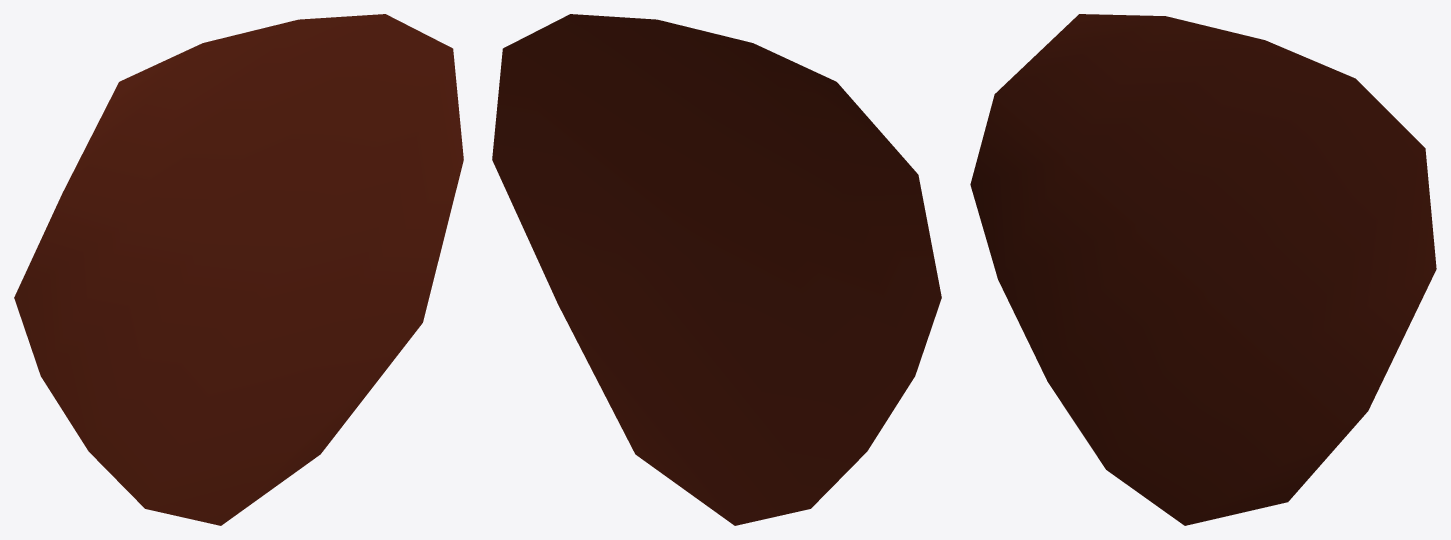
The model's file is finch_feather_flight_tertiary_030.obj.
3 renders of one model, left to right at view 1: azimuth 30°, elevation 25°; view 2: azimuth 150°, elevation 25°; view 3: azimuth 330°, elevation 25°, orthographic. The views are drawn at different scales.
Visible parts, largest first — view 1: feather_flight_tertiary_030; view 2: feather_flight_tertiary_030; view 3: feather_flight_tertiary_030.
Part boxes in pixels (x1,y1,x2,y2): feather_flight_tertiary_030: [14, 14, 463, 525]; feather_flight_tertiary_030: [492, 14, 941, 525]; feather_flight_tertiary_030: [970, 14, 1436, 525].
Size of the model in its own units: 0.00316 by 0.00327 by 0.000152.
